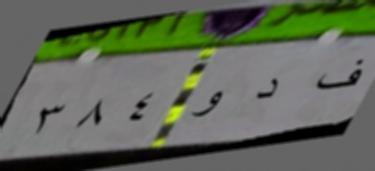3: (34, 96, 68, 138)
4: (122, 88, 160, 132)
8: (72, 95, 108, 134)
daal: (251, 72, 286, 108)
faa: (312, 49, 368, 100)
waw: (191, 82, 236, 126)
